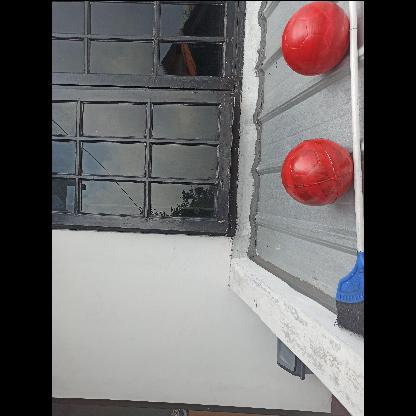red_ball: (276, 1, 352, 74), (280, 134, 352, 206)
